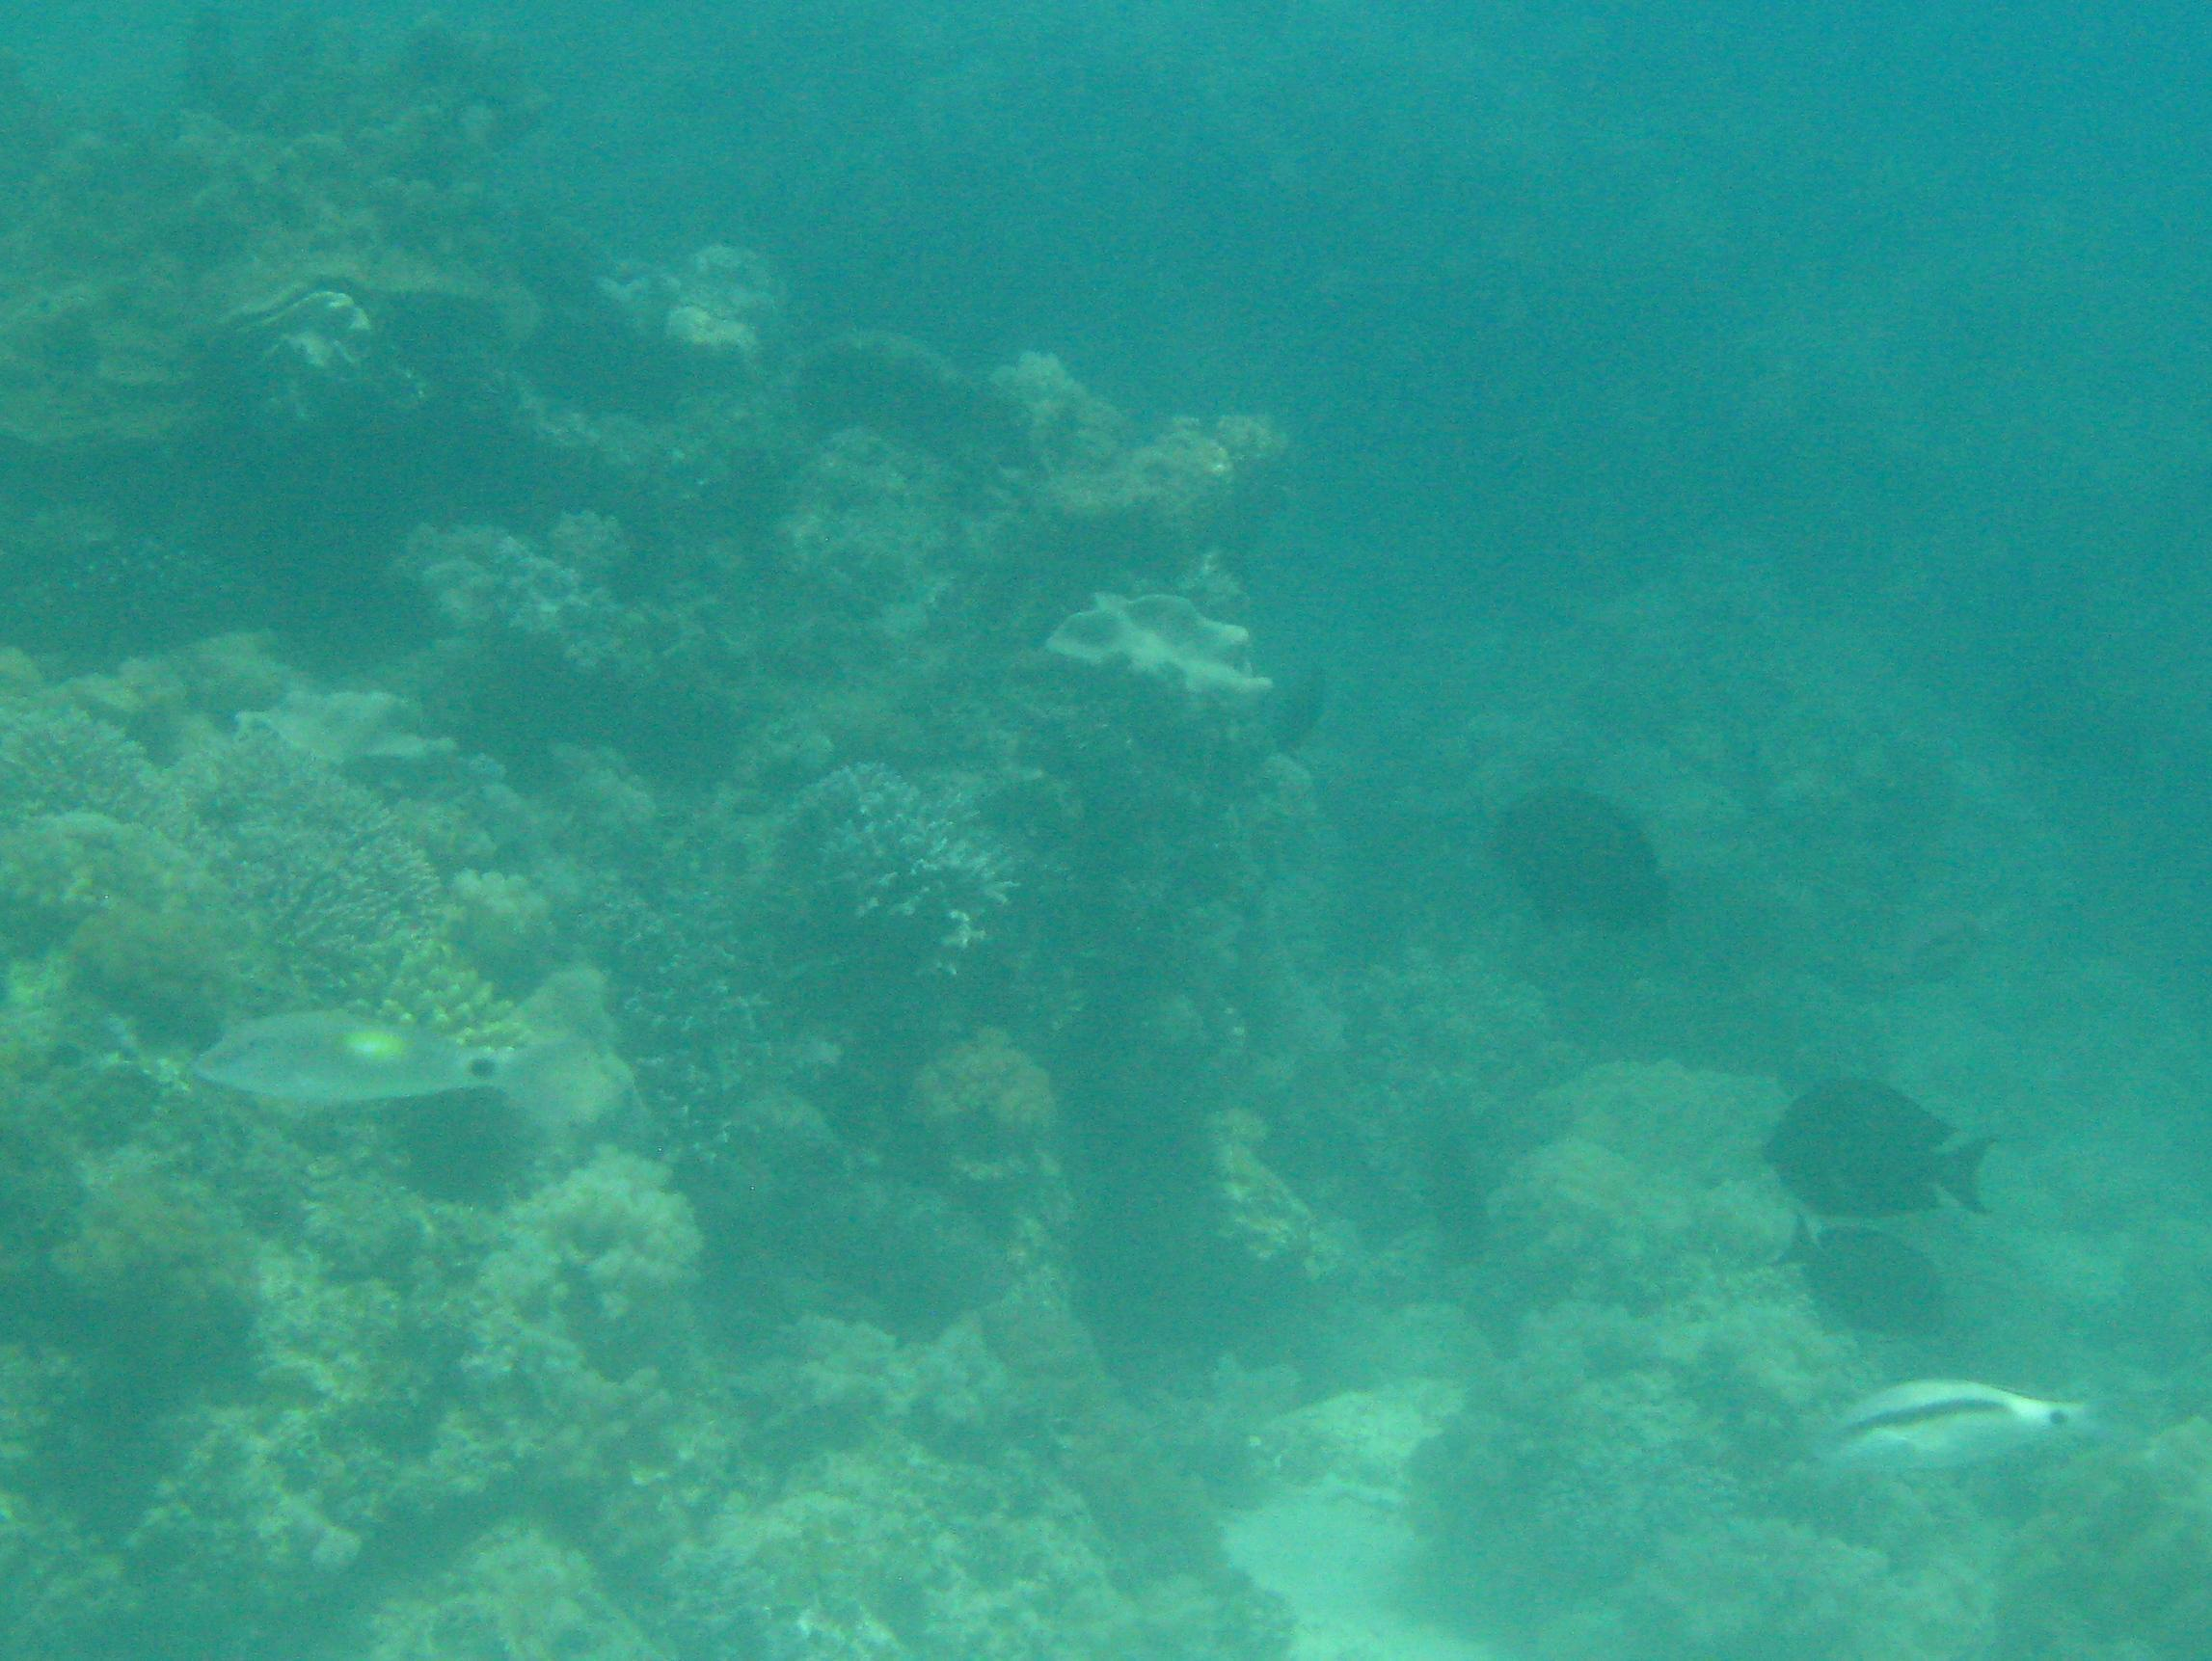Fish: (178, 918, 598, 1199)
